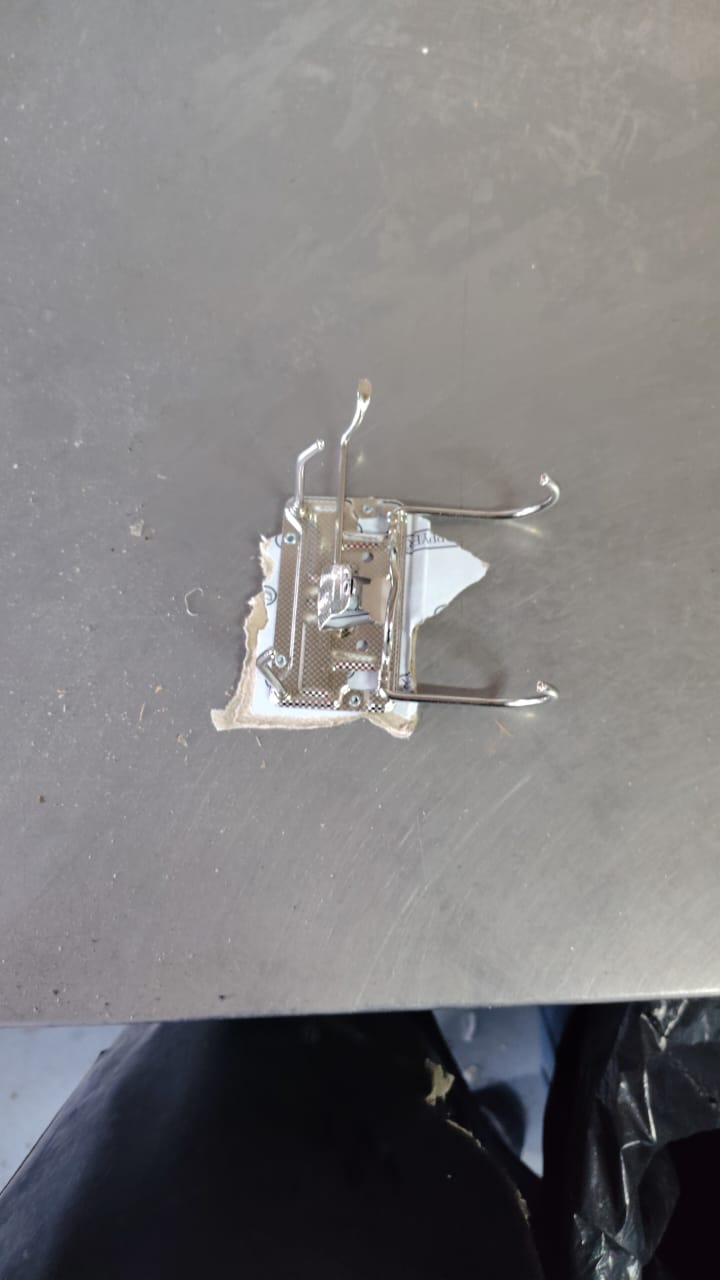Metal: (264, 380, 564, 730)
